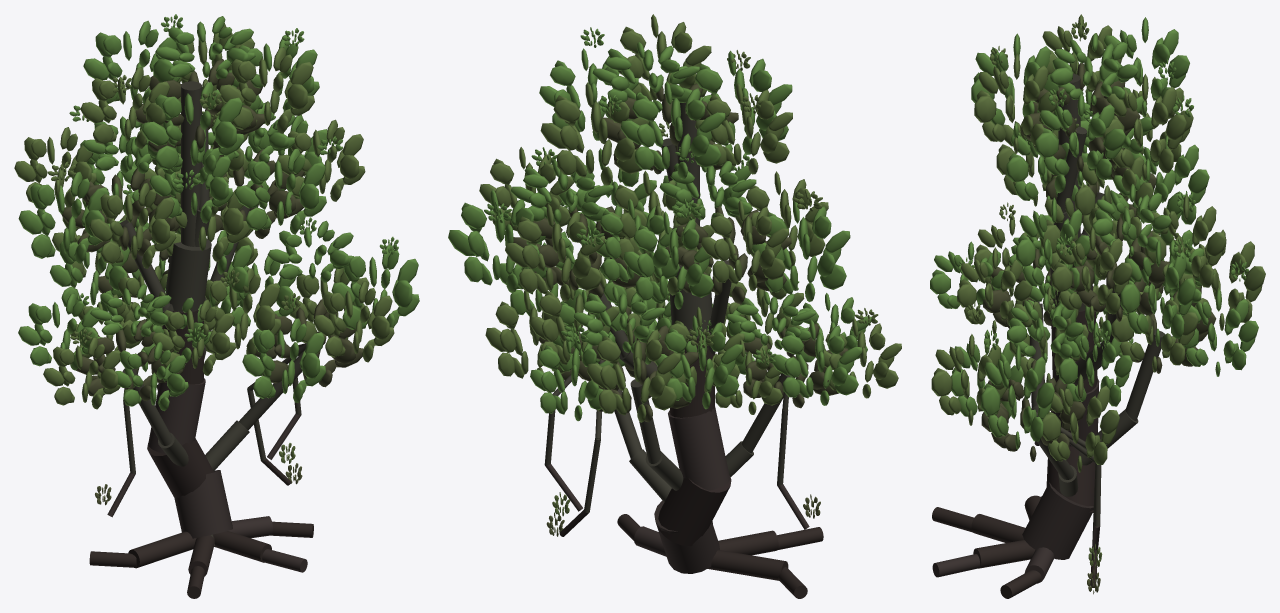
The model's file is CMU3DBroadleafTree06.glb.
The picture shows the model from 3 angles, left to right: view 1: azimuth 30°, elevation 25°; view 2: azimuth 150°, elevation 25°; view 3: azimuth 270°, elevation 25°; orthographic projection. The views are drawn at different scales.
Visible parts, largest first — view 1: irregular rounded leaf cluster (×30), rounded leaf core (×6), off-center crown cluster (×5), source curved trunk 1, source curved trunk 5, inferred hidden trunk continuation, source curved trunk 3, source curved trunk 2, source root 3.1, source root 1.1, inferred crown branch 4.1, source curved trunk 4 (+8 smaller); view 2: irregular rounded leaf cluster (×32), off-center crown cluster (×5), rounded leaf core (×5), source curved trunk 3, source curved trunk 2, source curved trunk 1, source root 3.1, source curved trunk 5, source root 2.1, source curved trunk 4, inferred crown branch 6.2, inferred crown branch 5.2 (+7 smaller); view 3: irregular rounded leaf cluster (×31), off-center crown cluster (×5), rounded leaf core (×6), source curved trunk 1, source curved trunk 2, inferred crown branch 6.2, source root 1.1, source root 2.1, inferred crown branch 1.2, source root 1.2, source curved trunk 4, source root 4.2 (+5 smaller).
Boxes of the visible parts, x1,y1,x2,y2 form: irregular rounded leaf cluster (×30): (14, 20, 419, 411); rounded leaf core (×6): (61, 58, 363, 401); off-center crown cluster (×5): (83, 16, 353, 336); source curved trunk 1: (174, 470, 232, 538); source curved trunk 5: (165, 239, 211, 311); inferred hidden trunk continuation: (181, 81, 201, 246); source curved trunk 3: (148, 378, 205, 454); source curved trunk 2: (147, 438, 213, 498); source root 3.1: (128, 531, 196, 568); source root 1.1: (213, 531, 271, 562); inferred crown branch 4.1: (205, 420, 249, 470); source curved trunk 4: (162, 310, 204, 384); irregular rounded leaf cluster (×32): (448, 14, 901, 422); off-center crown cluster (×5): (511, 42, 815, 352); rounded leaf core (×5): (513, 76, 847, 422); source curved trunk 3: (668, 407, 730, 490); source curved trunk 2: (657, 476, 731, 546); source curved trunk 1: (654, 500, 719, 573); source root 3.1: (707, 550, 788, 580); source curved trunk 5: (669, 265, 712, 337); source root 2.1: (718, 530, 778, 555); source curved trunk 4: (670, 336, 715, 417); inferred crown branch 6.2: (630, 379, 661, 463); inferred crown branch 5.2: (741, 373, 790, 453); irregular rounded leaf cluster (×31): (930, 14, 1265, 472); off-center crown cluster (×5): (1007, 33, 1214, 362); rounded leaf core (×6): (981, 63, 1216, 461); source curved trunk 1: (1022, 482, 1093, 559); source curved trunk 2: (1046, 446, 1095, 512); inferred crown branch 6.2: (1125, 330, 1164, 420); source root 1.1: (973, 540, 1035, 568); source root 2.1: (971, 514, 1025, 542); inferred crown branch 1.2: (1056, 126, 1087, 212); source root 1.2: (932, 554, 979, 577); source curved trunk 4: (1051, 310, 1097, 392); source root 4.2: (1000, 570, 1041, 598).
Size of the model in its own units: 1.92 by 2.46 by 1.44.
